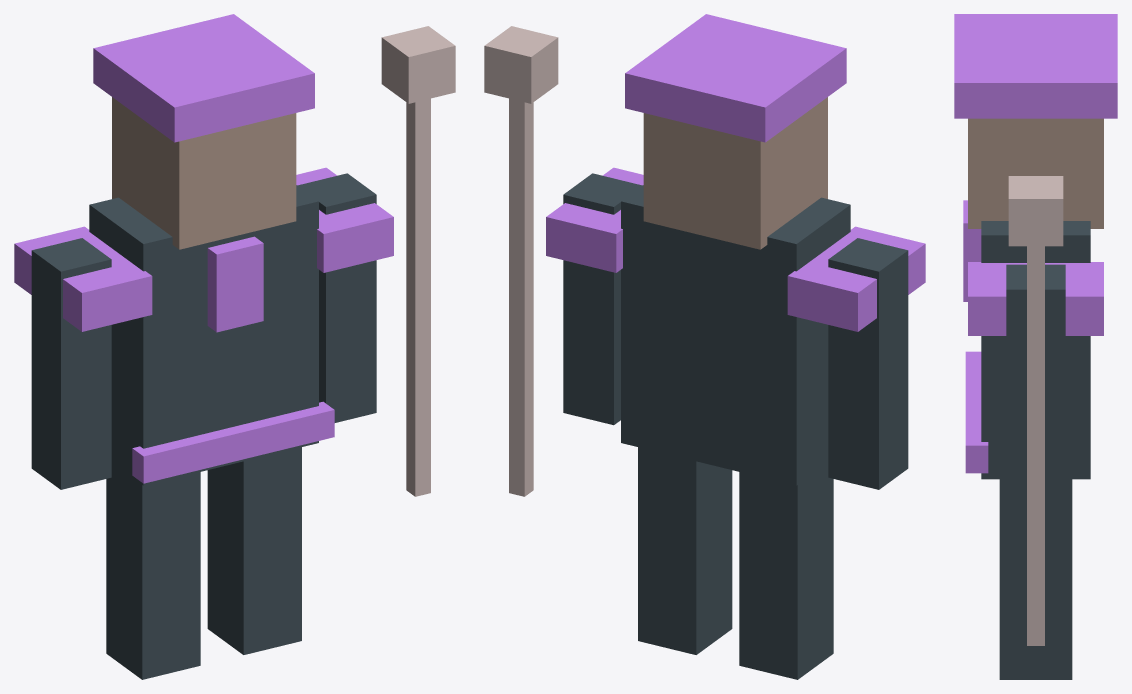
The model's file is 17_varren_cragwarden_cartographer_from_isolation.glb.
3 views of the same model, side by side, from view 1: azimuth 30°, elevation 25°; view 2: azimuth 150°, elevation 25°; view 3: azimuth 270°, elevation 25° (orthographic).
Visible parts, largest first — view 1: Varren Cragwarden, Cartographer from Isolation; view 2: Varren Cragwarden, Cartographer from Isolation; view 3: Varren Cragwarden, Cartographer from Isolation.
Boxes of the visible parts, bbox=[...] form: Varren Cragwarden, Cartographer from Isolation: bbox=[14, 14, 455, 679]; Varren Cragwarden, Cartographer from Isolation: bbox=[484, 14, 925, 679]; Varren Cragwarden, Cartographer from Isolation: bbox=[954, 14, 1117, 679].
Bounding box in the file's own units: 0.9882 × 1.4 × 0.3505.
